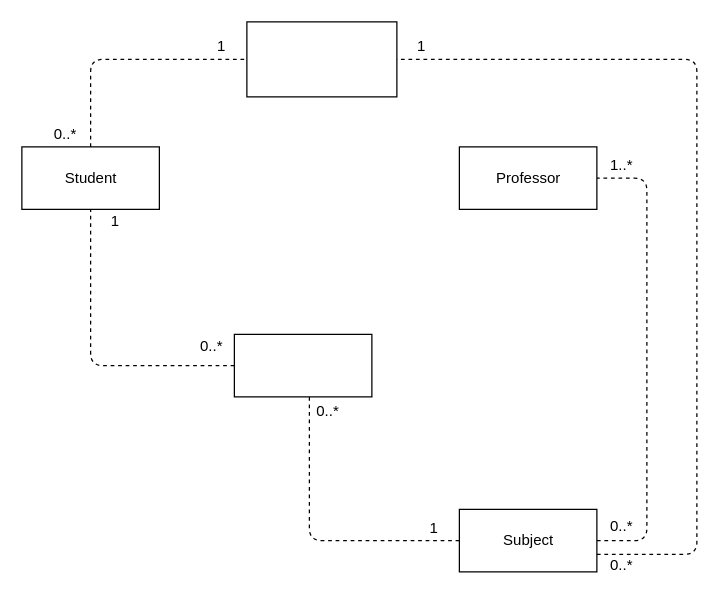
The diagram is 720 pixels wide and 600 high, and some of its shapes have lost their labels. The centre of each missing label's shape, as x and y in pixels:
"Comment" goes at point 302,365.
"Degree" goes at point 321,59.
